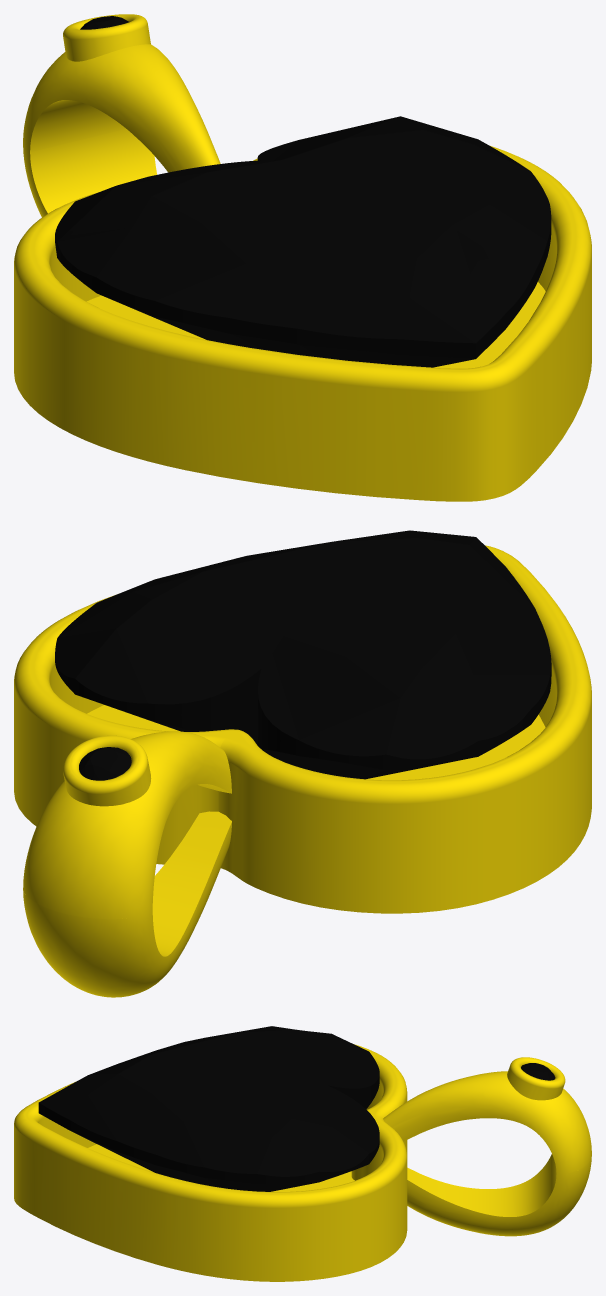
File: heart-pendant-optimized.glb
3 views of the same model, one above another, from view 1: azimuth 30°, elevation 25°; view 2: azimuth 150°, elevation 25°; view 3: azimuth 270°, elevation 25° (orthographic). The views are drawn at different scales.
Parts seen in each view (by area): view 1: object 1, Diamond_Heart; view 2: object 1, Diamond_Heart; view 3: object 1, Diamond_Heart.
Boxes of the visible parts, bbox=[...] form: object 1: bbox=[14, 14, 591, 501]; Diamond_Heart: bbox=[55, 16, 551, 367]; object 1: bbox=[14, 545, 591, 997]; Diamond_Heart: bbox=[55, 530, 551, 780]; object 1: bbox=[14, 1044, 591, 1281]; Diamond_Heart: bbox=[38, 1026, 555, 1191].
Bounding box in the file's own units: 0.0151 × 0.00711 × 0.022.
